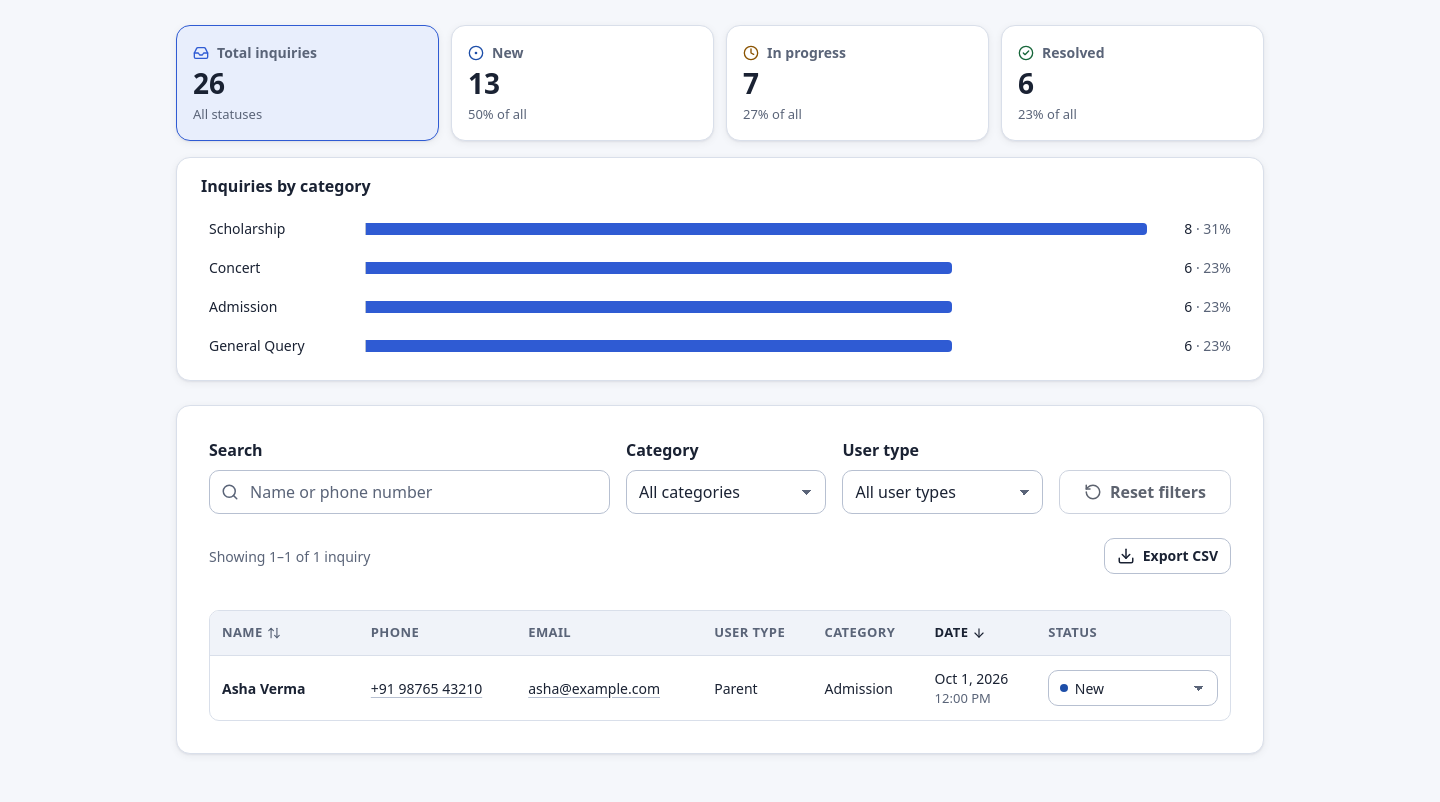
Test: status management › puts the old status back and explains when the update fails
The image size is (1440, 802).
(page scrolled)
Expected: the table is shown, [210,611,1230,720]
Select "In Progress" in the dropdown named "Status for Asha Verma". click: (1133, 688)
box: [1048,670,1218,706]
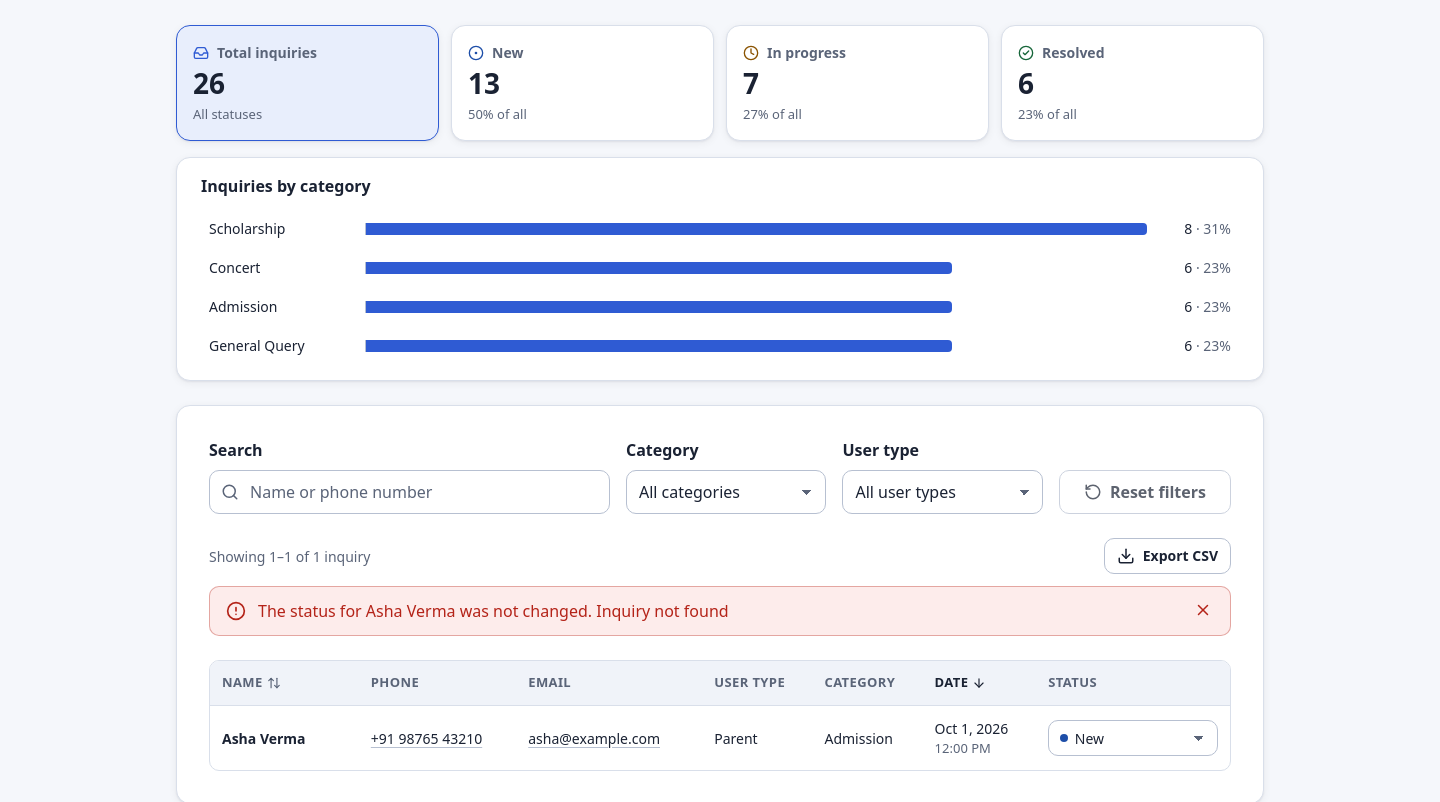
Expected: the dropdown named "Status for Asha Verma" is enabled, [1048,720,1218,756]
Expected: the message reads "The status for Asha Verma was not changed. Inquiry not found", [258,600,729,622]
